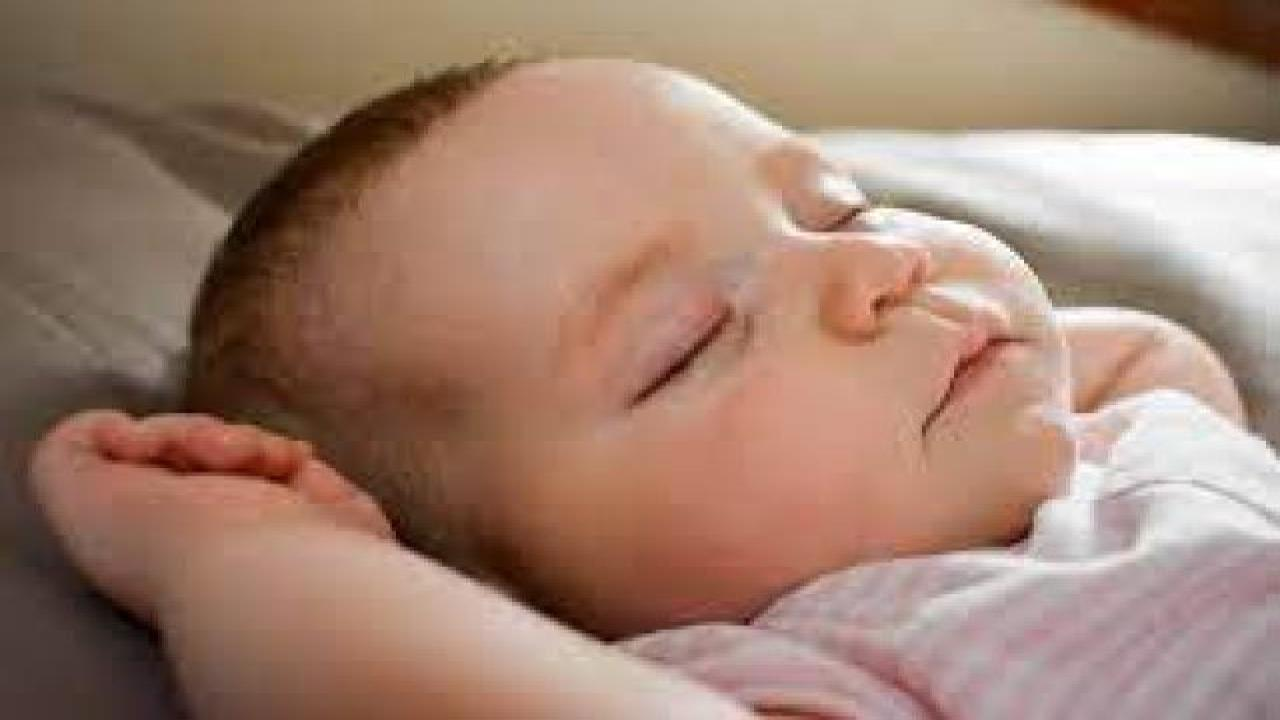hand: (25, 409, 385, 538)
